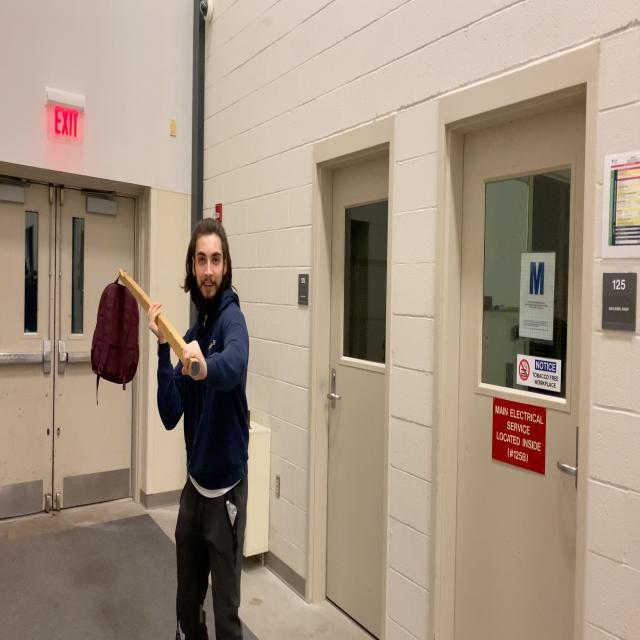Backpacks: (91, 284, 140, 386)
